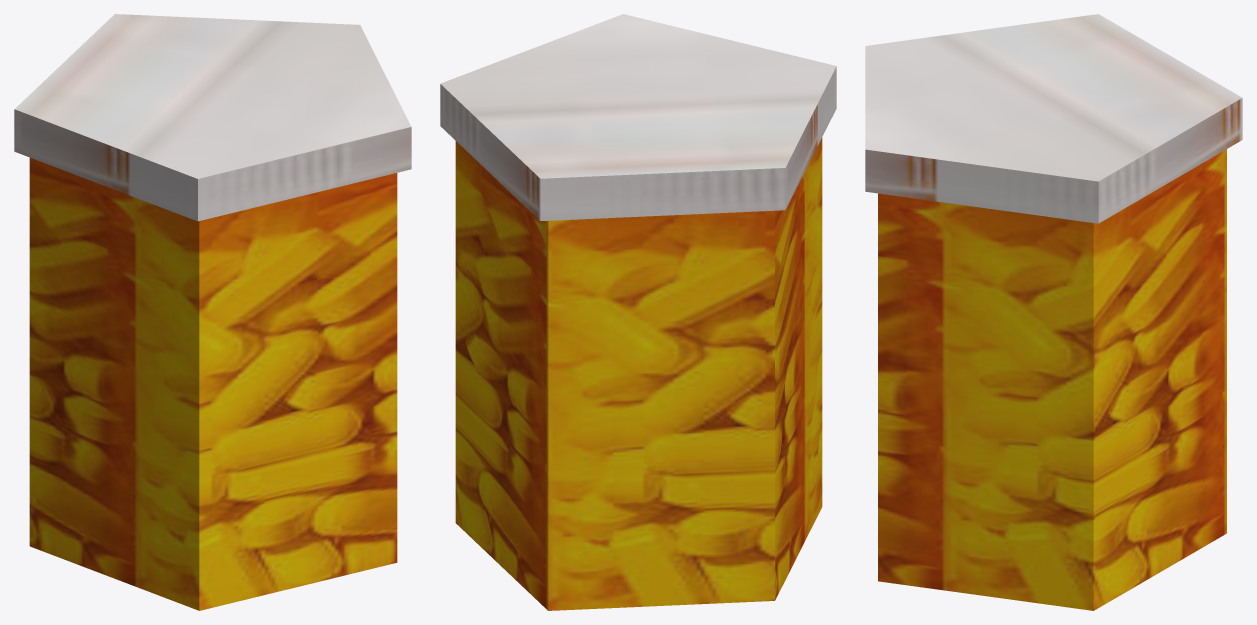
The model's file is DROGA.glb.
The picture shows the model from 3 angles, left to right: view 1: azimuth 30°, elevation 25°; view 2: azimuth 150°, elevation 25°; view 3: azimuth 270°, elevation 25°; orthographic projection.
Visible parts, largest first — view 1: Cylinder; view 2: Cylinder; view 3: Cylinder.
Part boxes in pixels (box(x1,y1,x2,y2)): Cylinder: box(14, 14, 411, 610); Cylinder: box(440, 14, 836, 610); Cylinder: box(865, 14, 1242, 610).
Bounding box in the file's own units: 2.05 × 2.49 × 1.95.
1 material, 1 textured.
